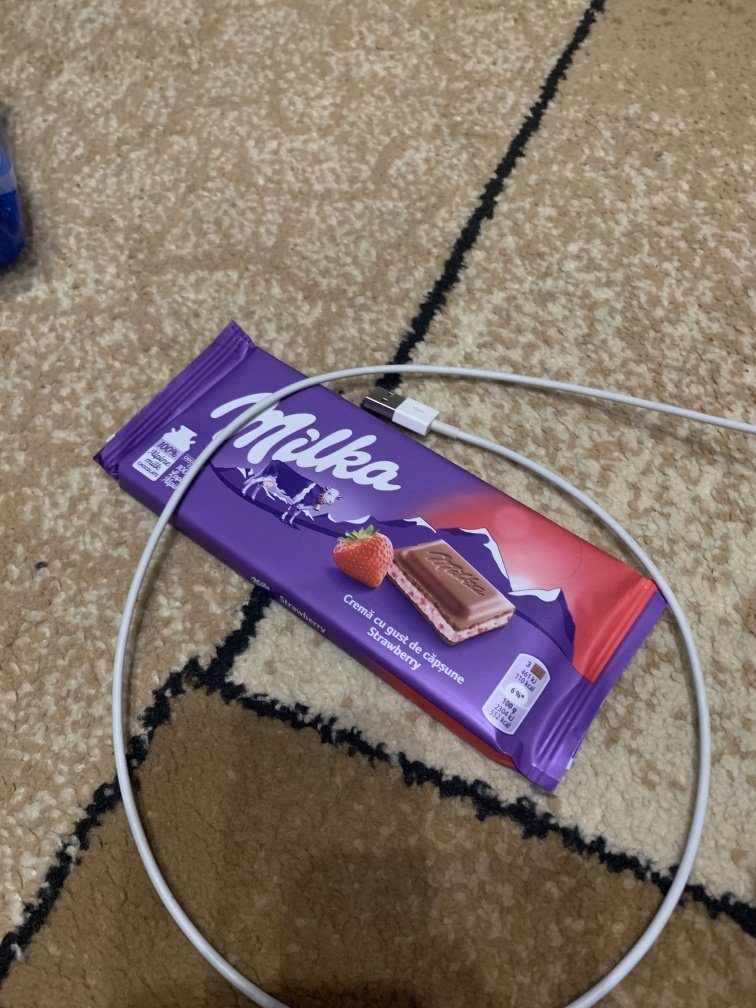milka: (94, 318, 670, 810)
